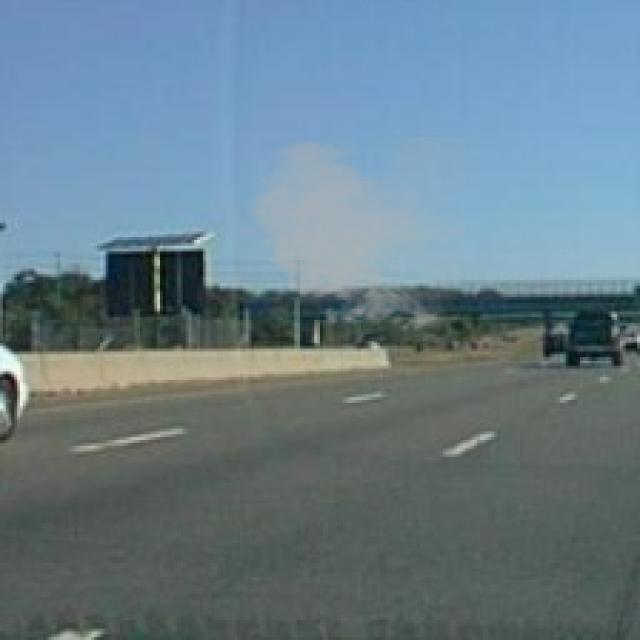smoke: (237, 134, 466, 337)
